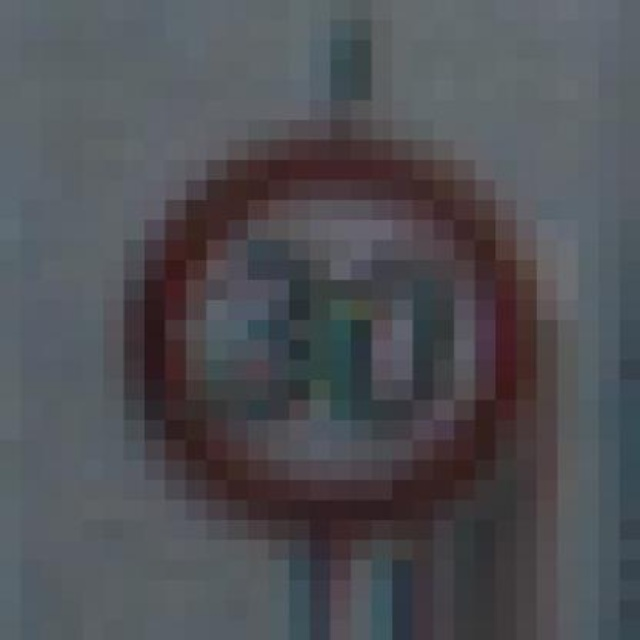Tốc độ tối đa cho phép 30km/h: (134, 147, 529, 532)
